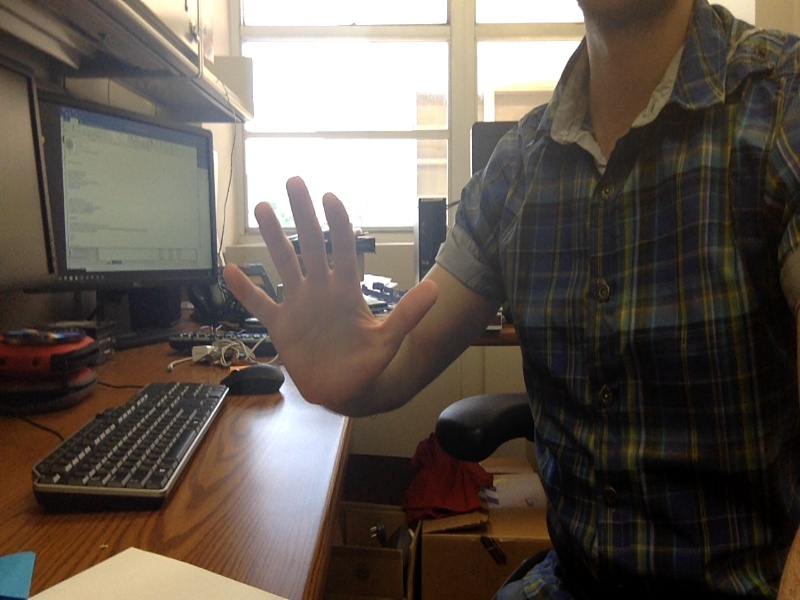5-hand: (220, 175, 436, 408)
